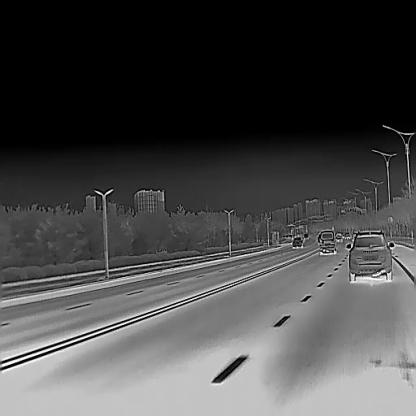car: (345, 229, 395, 281), (317, 229, 336, 255), (291, 236, 302, 248), (334, 231, 343, 242), (343, 231, 351, 239), (303, 233, 309, 240)
